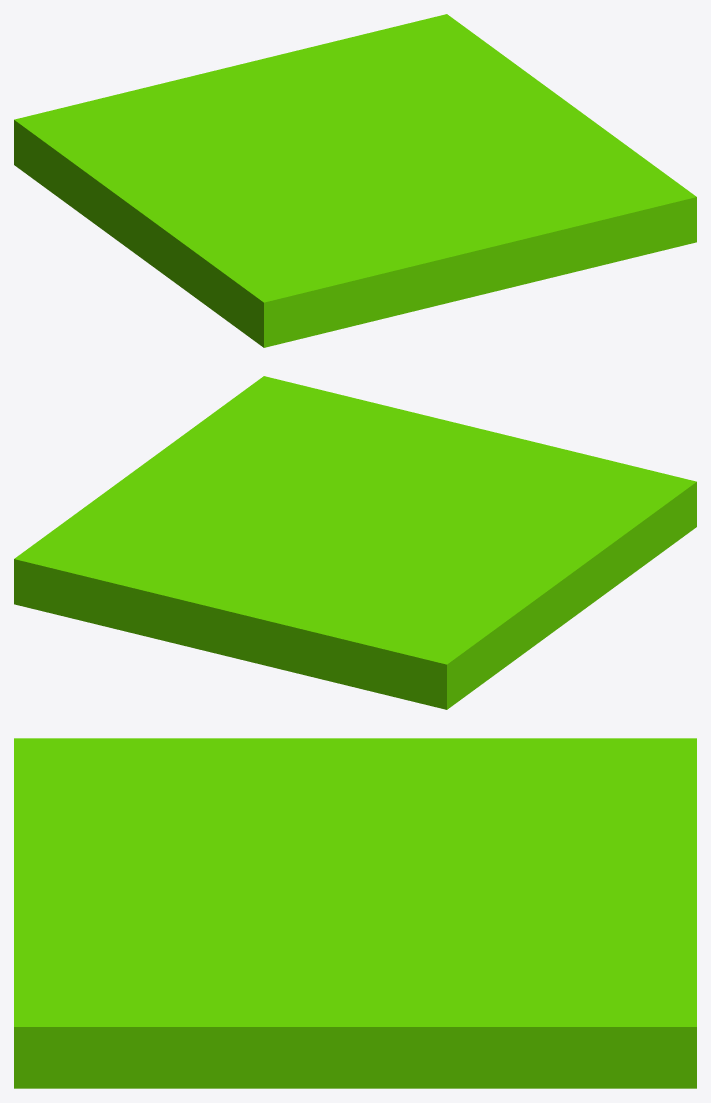
Rendered from Grass.fbx.
3 views of the same model, one above another, from view 1: azimuth 30°, elevation 25°; view 2: azimuth 150°, elevation 25°; view 3: azimuth 270°, elevation 25° (orthographic). The views are drawn at different scales.
Visible parts, largest first — view 1: Grass; view 2: Grass; view 3: Grass.
Boxes of the visible parts, x1,y1,x2,y2 form: Grass: (14, 14, 696, 347); Grass: (14, 376, 696, 709); Grass: (14, 738, 696, 1088).
Size of the model in its own units: 10 by 1 by 10.
